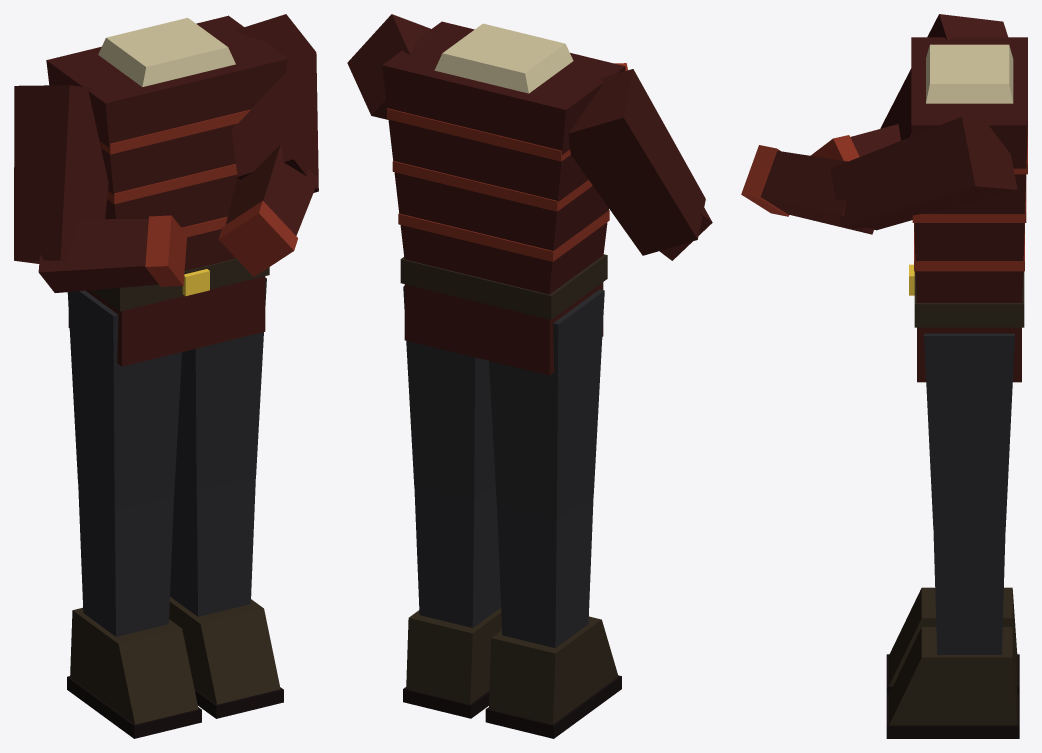
Rendered from gear_body_quilted_jacket.glb.
The picture shows the model from 3 angles, left to right: view 1: azimuth 30°, elevation 25°; view 2: azimuth 150°, elevation 25°; view 3: azimuth 270°, elevation 25°; orthographic projection. The views are drawn at different scales.
Parts seen in each view (by area): view 1: torso, leg_r_lower, leg_l_lower, leg_r, arm_r, leg_l, arm_l, arm_r_lower, arm_l_lower; view 2: torso, leg_r_lower, leg_l_lower, leg_r, arm_r, leg_l, arm_l; view 3: torso, leg_l_lower, leg_l, arm_l, arm_l_lower, leg_r_lower, arm_r, arm_r_lower.
Part boxes in pixels (bbox=[...]): torso: bbox=[46, 15, 287, 366]; leg_r_lower: bbox=[67, 484, 201, 738]; leg_l_lower: bbox=[169, 475, 283, 718]; leg_r: bbox=[67, 290, 181, 510]; arm_r: bbox=[14, 85, 108, 263]; leg_l: bbox=[175, 277, 266, 490]; arm_l: bbox=[231, 14, 318, 192]; arm_r_lower: bbox=[38, 215, 187, 292]; arm_l_lower: bbox=[218, 144, 318, 276]; torso: bbox=[382, 21, 625, 375]; leg_r_lower: bbox=[485, 494, 621, 738]; leg_l_lower: bbox=[403, 485, 501, 718]; leg_r: bbox=[489, 289, 604, 520]; arm_r: bbox=[568, 69, 705, 255]; leg_l: bbox=[403, 286, 495, 500]; arm_l: bbox=[347, 14, 430, 119]; torso: bbox=[909, 37, 1027, 382]; leg_l_lower: bbox=[886, 529, 1019, 738]; leg_l: bbox=[924, 333, 1014, 529]; arm_l: bbox=[830, 116, 1017, 230]; arm_l_lower: bbox=[741, 145, 874, 234]; leg_r_lower: bbox=[886, 587, 1019, 693]; arm_r: bbox=[880, 14, 1007, 140]; arm_r_lower: bbox=[810, 124, 900, 161].
Bounding box in the file's own units: 0.7929 × 1.52 × 0.6144.
